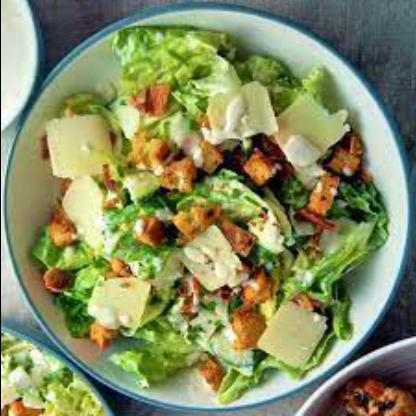salad: (28, 25, 386, 405), (1, 329, 107, 415)
